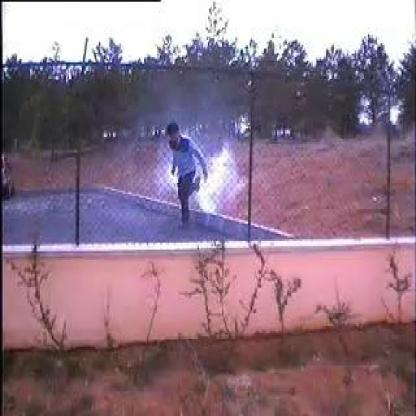-: (195, 146, 231, 214)
